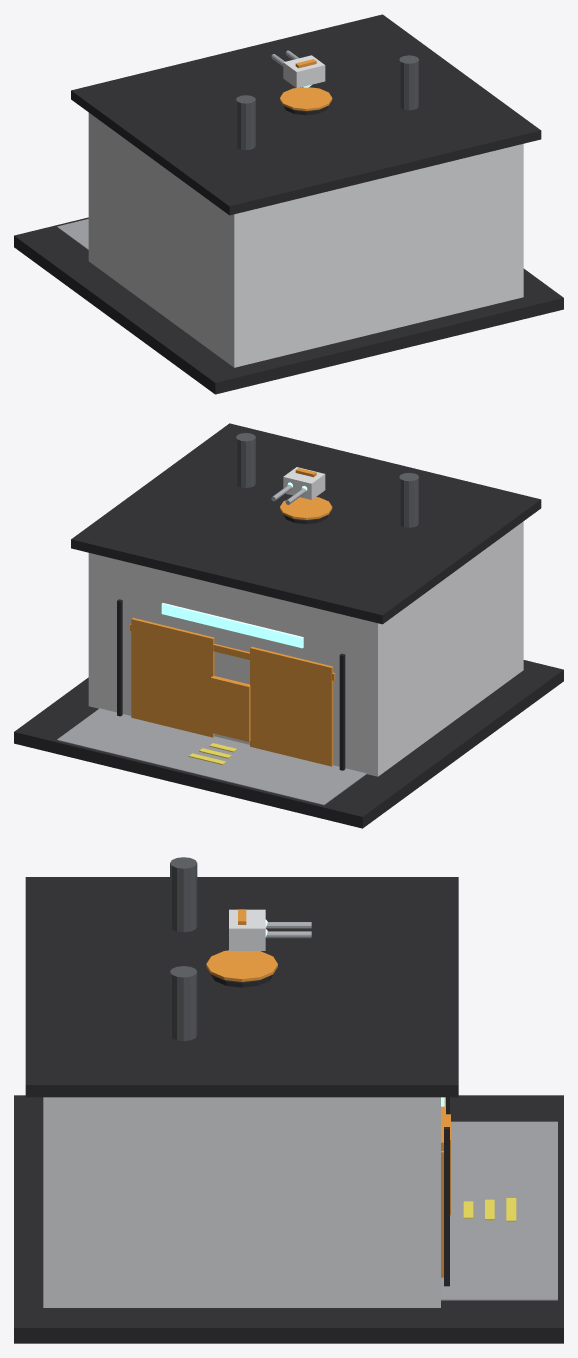
The model's file is SM_Hero_WorkshopTall.glb.
3 views of the same model, one above another, from view 1: azimuth 30°, elevation 25°; view 2: azimuth 150°, elevation 25°; view 3: azimuth 270°, elevation 25° (orthographic). The views are drawn at different scales.
Visible parts, largest first — view 1: SM_Hero_WorkshopTall; view 2: SM_Hero_WorkshopTall; view 3: SM_Hero_WorkshopTall.
Part boxes in pixels (x1,y1,x2,y2): SM_Hero_WorkshopTall: (14, 14, 563, 394); SM_Hero_WorkshopTall: (14, 423, 563, 828); SM_Hero_WorkshopTall: (14, 857, 563, 1343).
Bounding box in the file's own units: 5.64 × 3.53 × 5.64.
